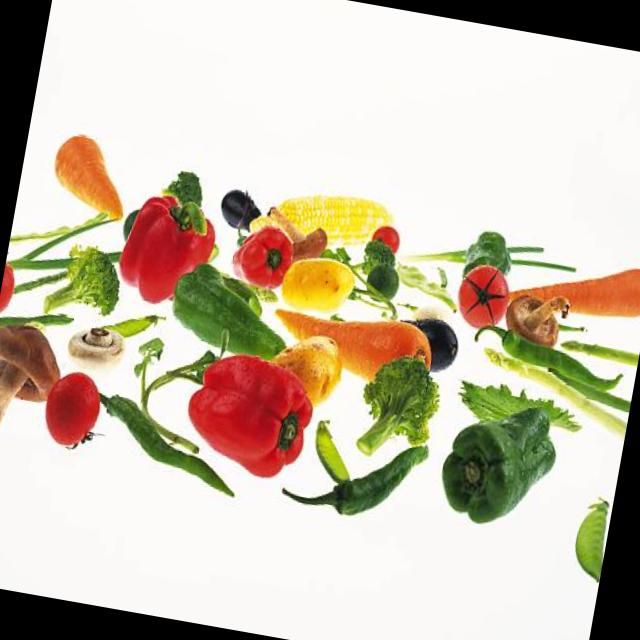paper: (428, 387, 575, 544), (184, 342, 326, 484), (294, 431, 439, 540), (113, 178, 220, 318), (504, 238, 640, 336), (348, 340, 449, 466), (260, 184, 408, 258), (37, 121, 140, 226), (0, 309, 62, 461), (49, 235, 130, 338), (24, 368, 112, 459), (280, 246, 374, 322), (222, 206, 294, 292), (568, 484, 615, 594), (452, 262, 528, 330), (0, 237, 40, 330)
